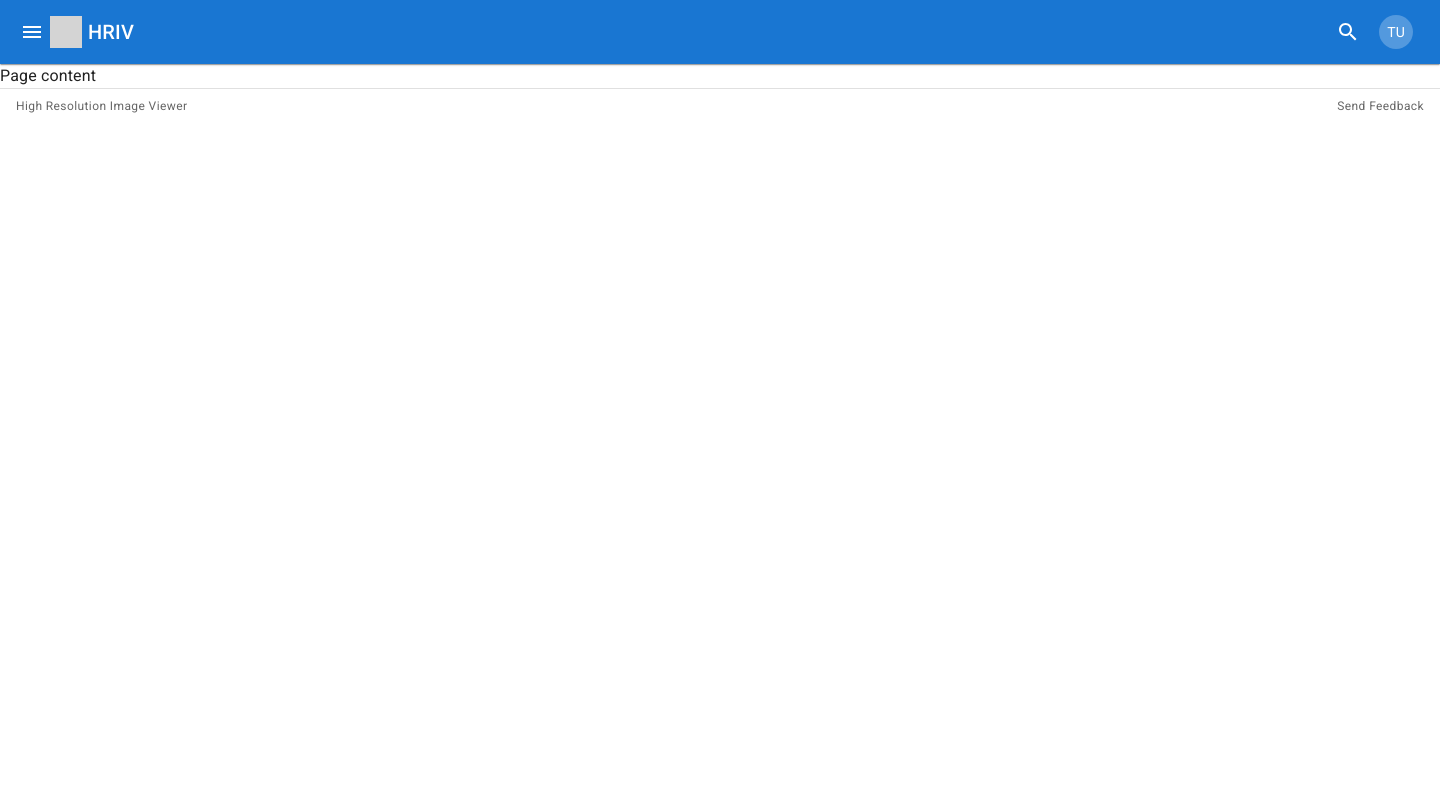
Test case: AppShell › compact viewport navigation › exposes Home and People but not Admin for staff in the menu
The width and height of the screenshot is (1440, 810).
Click the button named "Open navigation menu": (32, 32) [12,12,52,52]
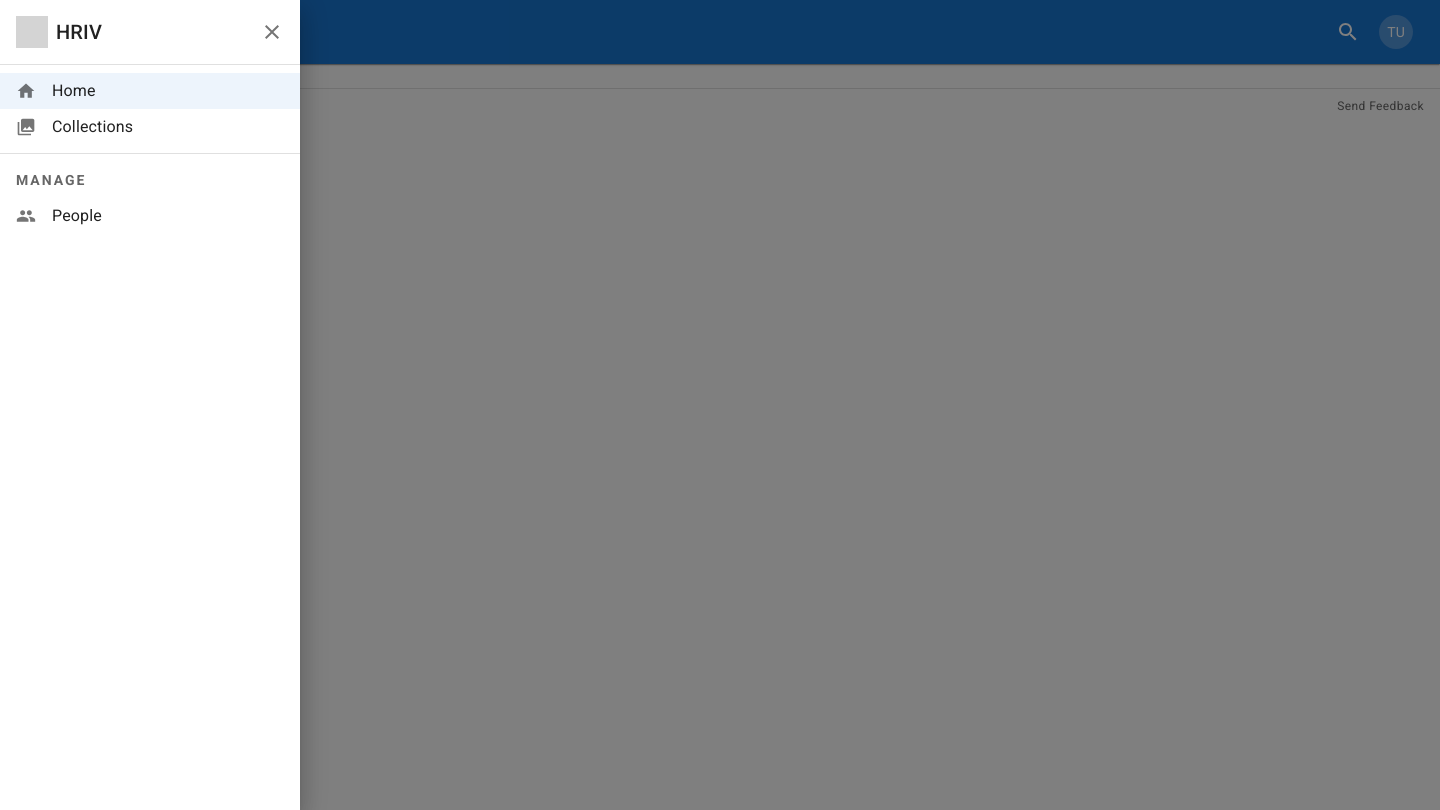
Result: the menu item "Home" is shown at [0,73,300,109]
Result: the menu item "People" is shown at [16,206,102,226]
